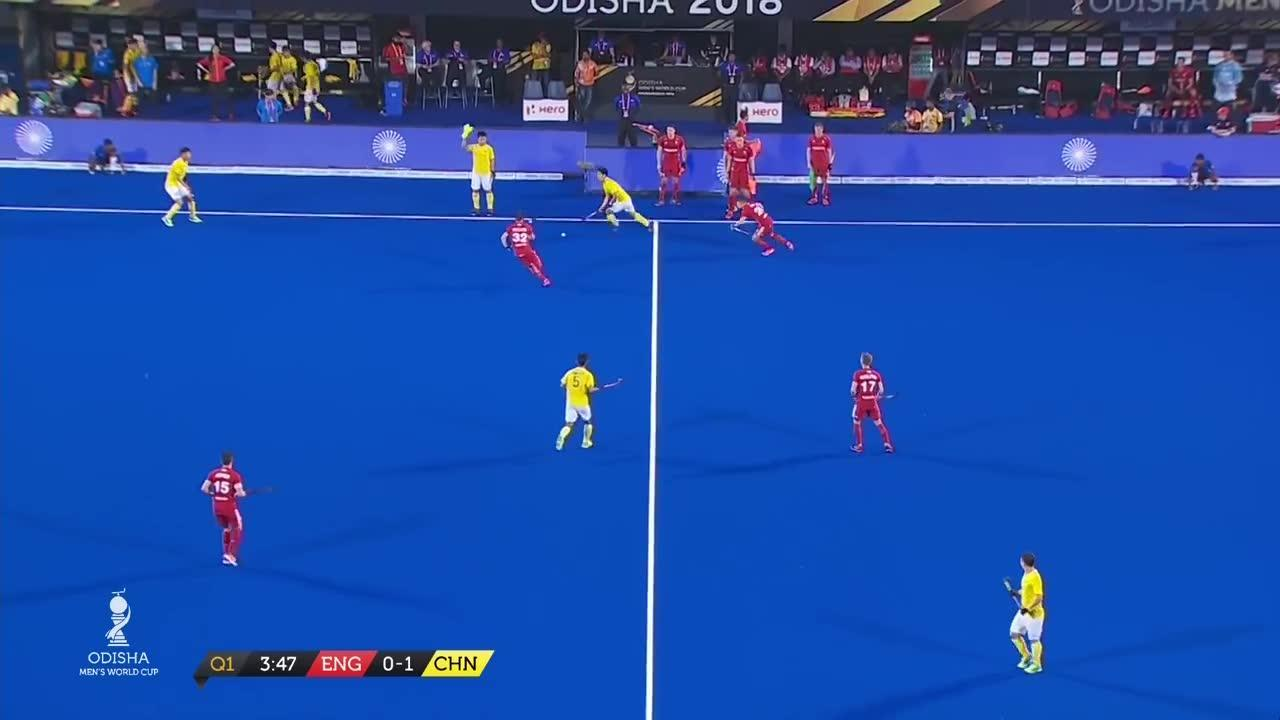ball: (558, 228, 570, 240)
